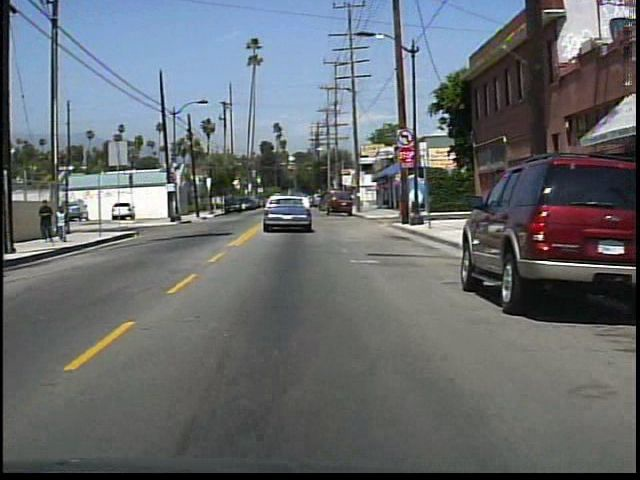person: (41, 198, 59, 243), (54, 202, 74, 242)
